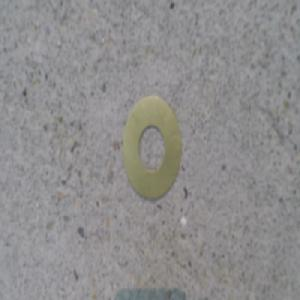Washer: (120, 93, 182, 203)
